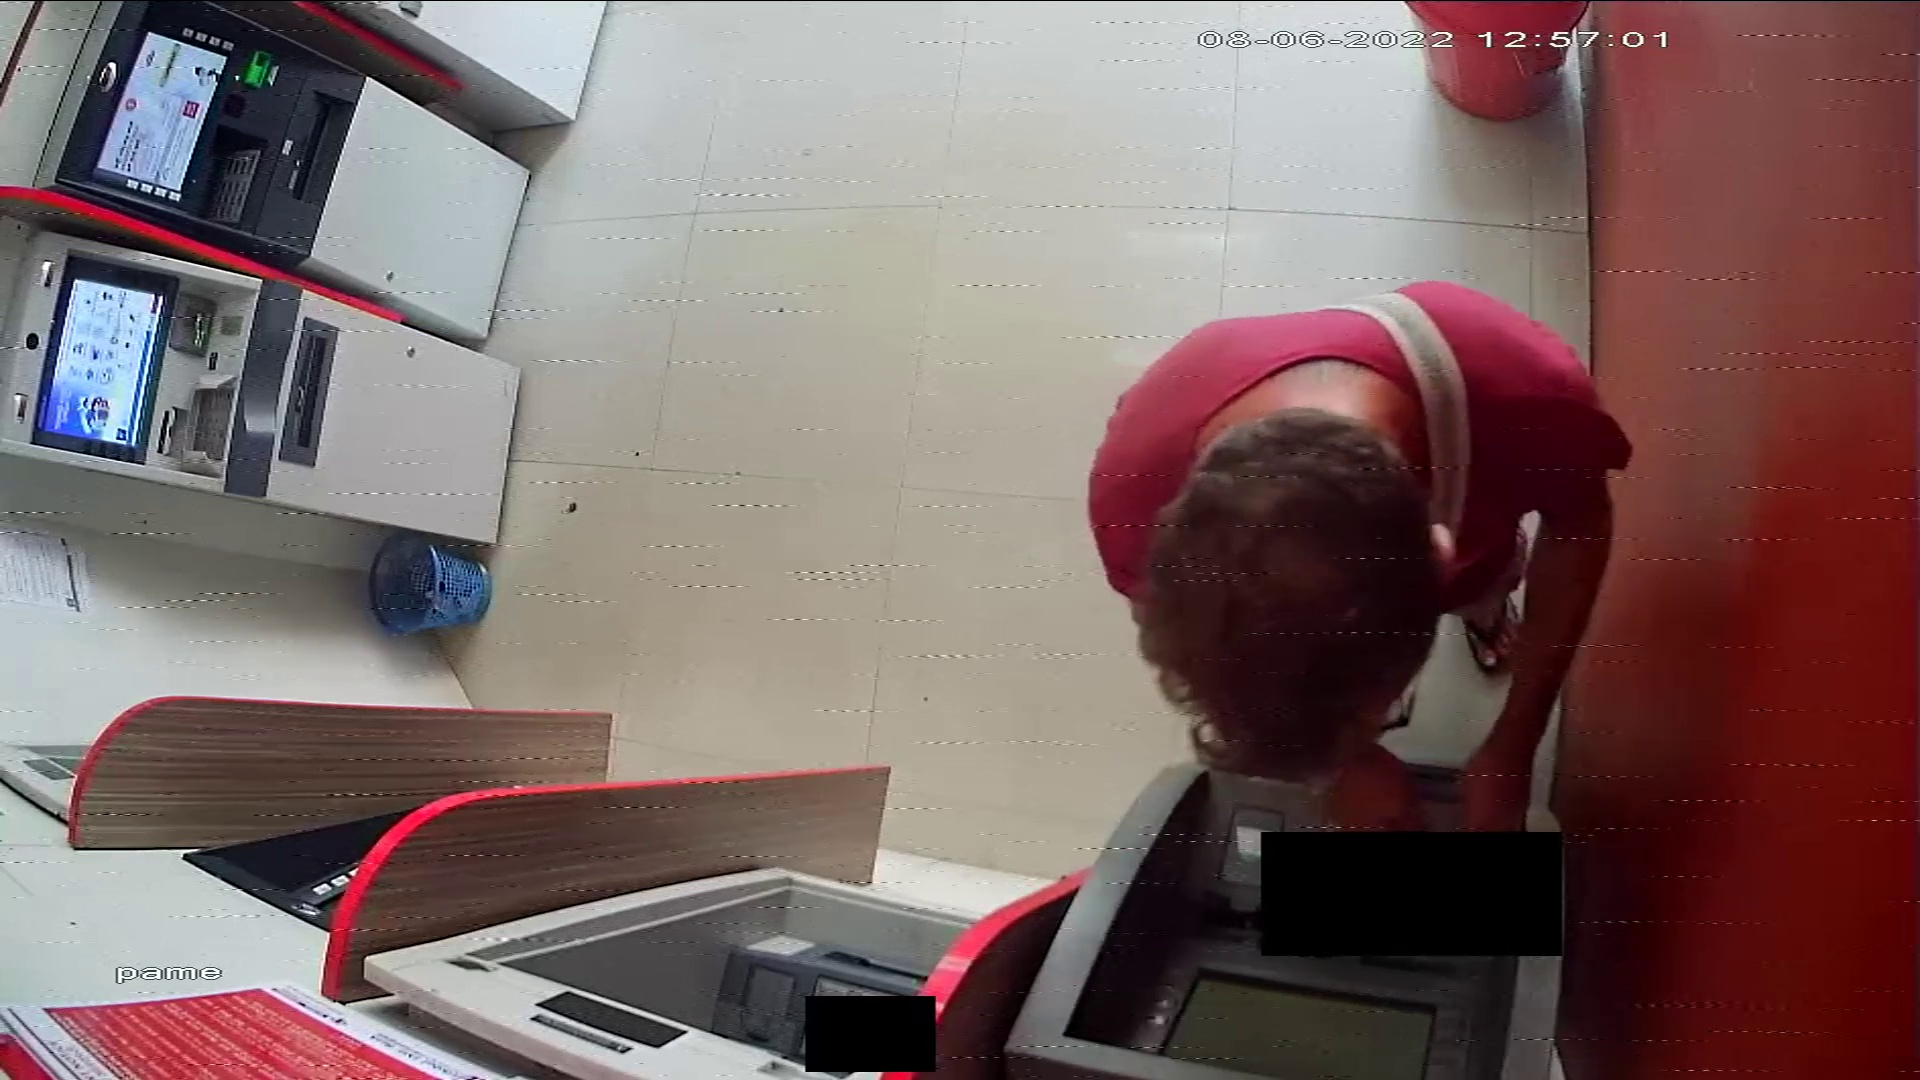person: (1083, 276, 1632, 833)
